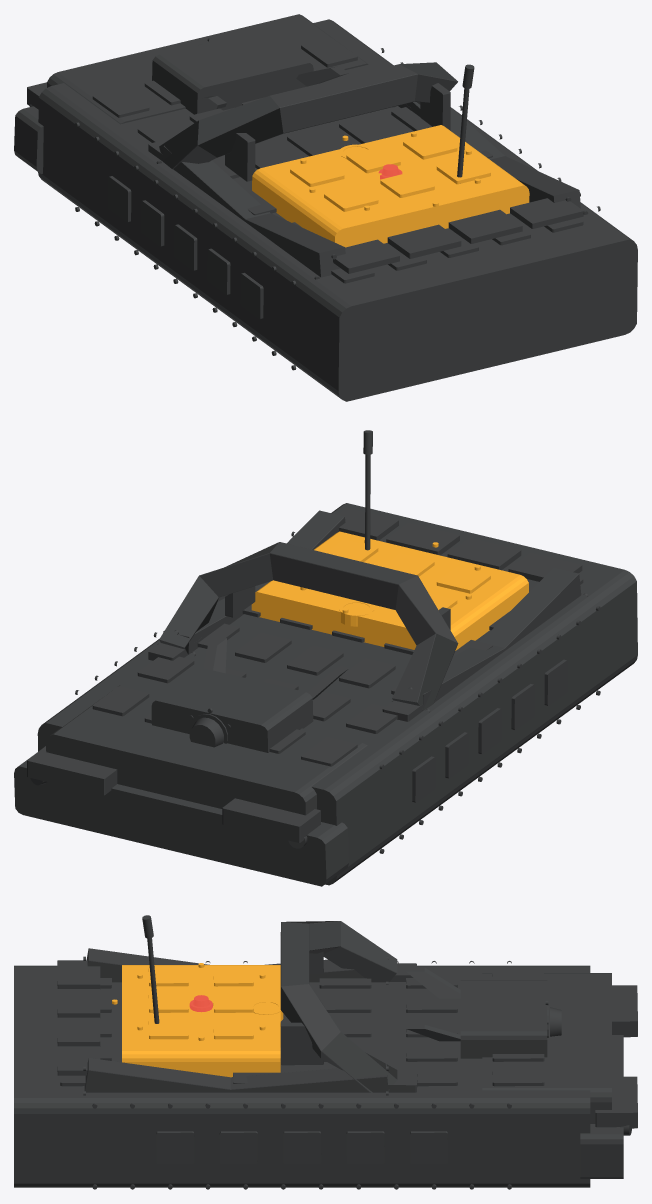
The model's file is streak_rcxd.glb.
3 views of the same model, one above another, from view 1: azimuth 30°, elevation 25°; view 2: azimuth 150°, elevation 25°; view 3: azimuth 270°, elevation 25° (orthographic). The views are drawn at different scales.
Visible parts, largest first — view 1: streak_rcxd__streak_rcxd, streak_rcxd__charge; view 2: streak_rcxd__streak_rcxd, streak_rcxd__charge; view 3: streak_rcxd__streak_rcxd, streak_rcxd__charge.
Part boxes in pixels (bbox=[...]): streak_rcxd__streak_rcxd: bbox=[14, 14, 637, 401]; streak_rcxd__charge: bbox=[252, 125, 529, 247]; streak_rcxd__streak_rcxd: bbox=[14, 430, 637, 886]; streak_rcxd__charge: bbox=[251, 531, 528, 650]; streak_rcxd__streak_rcxd: bbox=[14, 915, 637, 1189]; streak_rcxd__charge: bbox=[112, 963, 283, 1077].
Size of the model in its own units: 0.48 by 0.3549 by 0.866.
